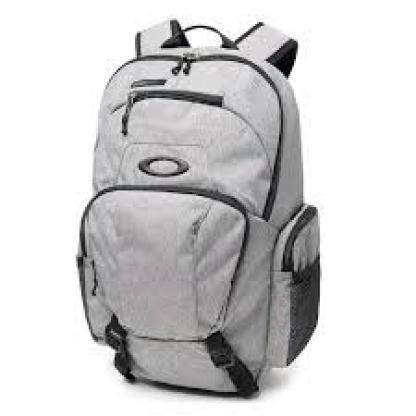morral: (68, 7, 350, 403)
